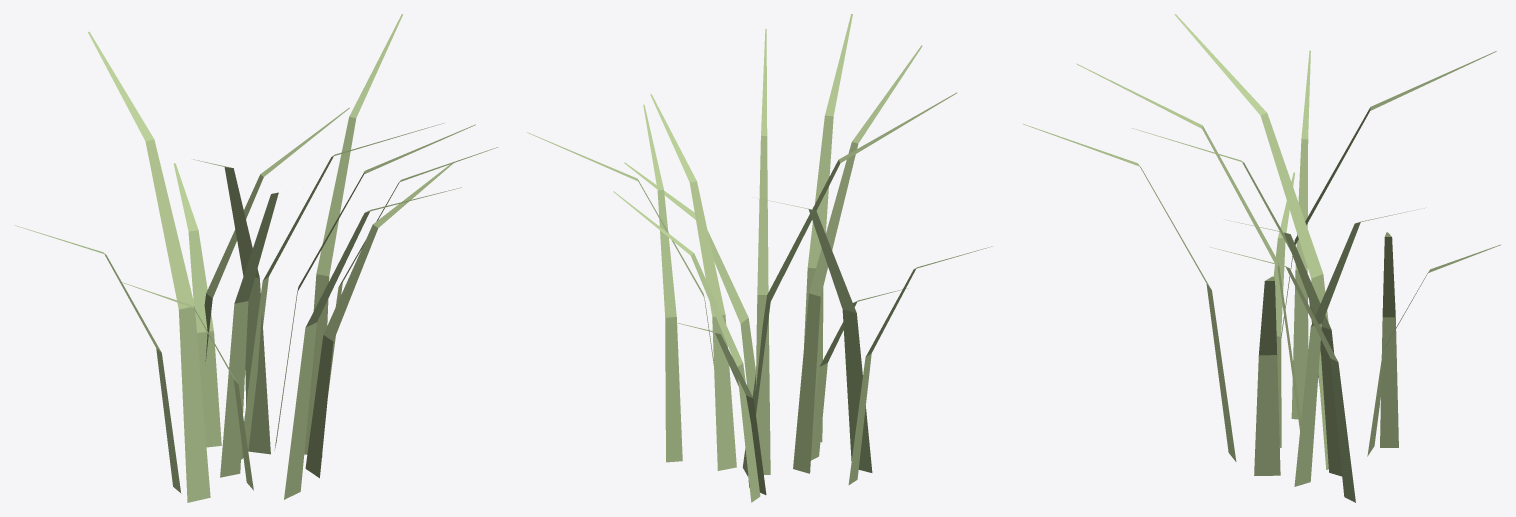
The model's file is nature_grass_tuft_tall.glb.
3 views of the same model, side by side, from view 1: azimuth 30°, elevation 25°; view 2: azimuth 150°, elevation 25°; view 3: azimuth 270°, elevation 25° (orthographic). The views are drawn at different scales.
Visible parts, largest first — view 1: world; view 2: world; view 3: world.
Part boxes in pixels (x1=…): world: x1=14, y1=14, x2=498, y2=502; world: x1=527, y1=14, x2=992, y2=502; world: x1=1023, y1=14, x2=1500, y2=502.
Size of the model in its own units: 2 by 1.66 by 1.89.
